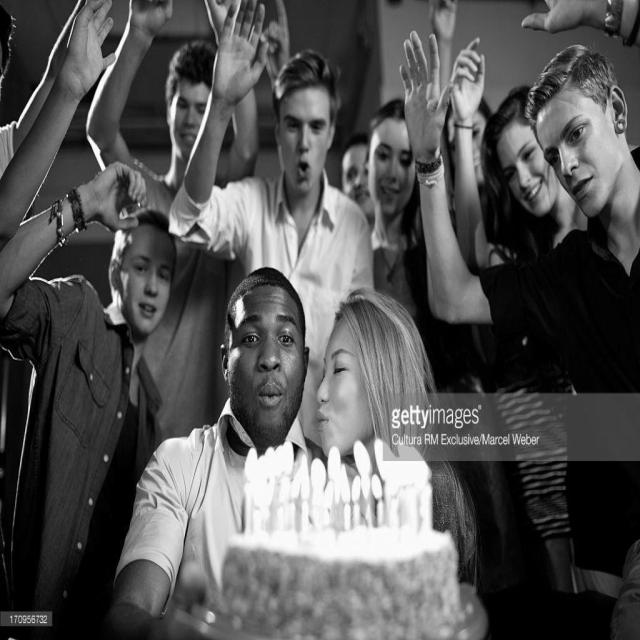person: (0, 173, 195, 622), (111, 257, 322, 640), (427, 41, 640, 393), (305, 286, 454, 568), (258, 43, 361, 291), (478, 68, 556, 240), (364, 96, 427, 252), (152, 25, 222, 162), (335, 136, 389, 229)
